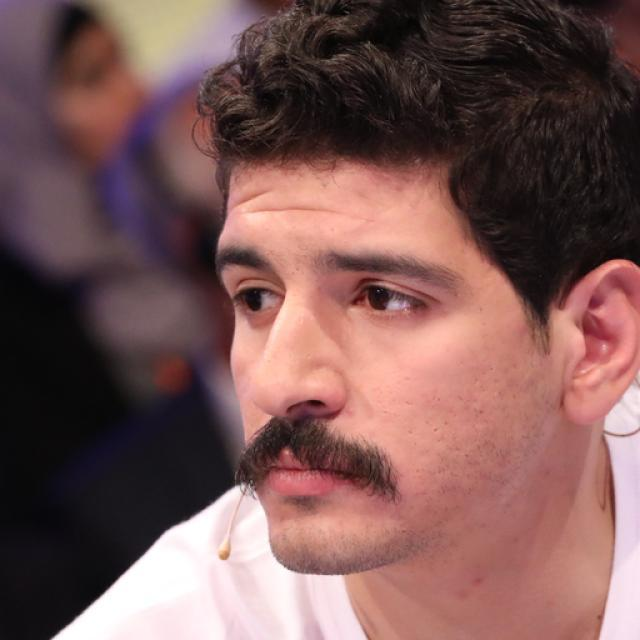sad: (220, 138, 554, 578)
